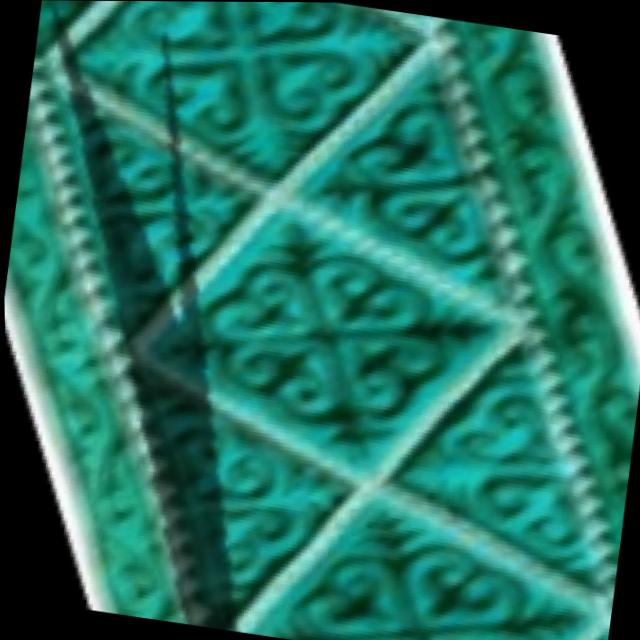Unity: (149, 211, 503, 478), (73, 1, 416, 178), (308, 62, 509, 298), (155, 385, 352, 618), (252, 507, 591, 640), (410, 347, 583, 575), (77, 109, 246, 325)
